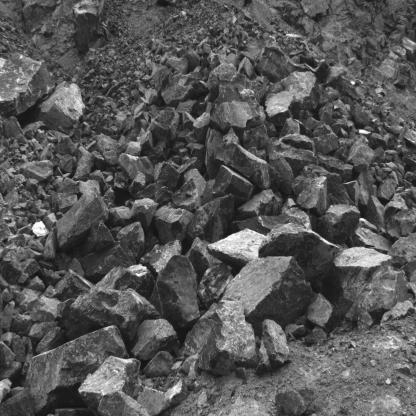stone: (24, 327, 128, 410), (222, 257, 315, 334), (259, 225, 340, 292), (62, 289, 157, 346), (333, 246, 392, 320), (149, 255, 201, 332), (201, 303, 254, 373), (345, 265, 408, 323), (215, 142, 284, 190), (0, 55, 54, 116), (56, 188, 108, 250), (78, 356, 141, 407), (86, 263, 156, 298), (187, 194, 236, 243), (206, 229, 264, 268), (37, 81, 85, 128), (234, 208, 316, 235), (77, 242, 134, 278), (302, 167, 356, 205), (254, 45, 307, 83), (255, 318, 291, 373), (131, 319, 177, 360), (387, 233, 416, 298), (154, 202, 194, 246), (185, 238, 224, 283), (209, 70, 246, 117), (212, 166, 255, 205), (198, 262, 234, 308), (210, 101, 253, 139), (283, 72, 320, 114), (236, 188, 283, 220), (319, 206, 359, 243), (142, 239, 182, 274), (147, 107, 180, 147), (277, 147, 319, 178), (296, 176, 327, 217), (265, 91, 300, 127), (51, 270, 93, 300), (308, 291, 338, 332), (352, 225, 392, 255), (82, 221, 115, 255), (384, 208, 416, 243), (98, 395, 151, 416), (116, 222, 144, 261), (29, 294, 64, 325), (172, 178, 201, 214), (317, 155, 352, 184), (348, 134, 374, 172), (241, 91, 266, 129), (354, 166, 378, 205), (117, 152, 147, 183), (129, 199, 156, 233), (185, 113, 213, 145), (161, 84, 195, 109), (145, 351, 176, 378), (154, 161, 183, 189), (72, 146, 94, 181), (245, 76, 269, 104), (383, 201, 409, 226), (22, 160, 54, 180), (331, 138, 355, 163), (310, 134, 339, 154), (95, 134, 127, 152), (350, 101, 371, 126), (153, 186, 174, 209), (278, 119, 300, 140), (109, 205, 130, 227), (56, 193, 79, 213), (318, 85, 339, 106), (291, 175, 307, 196), (105, 131, 120, 140)
